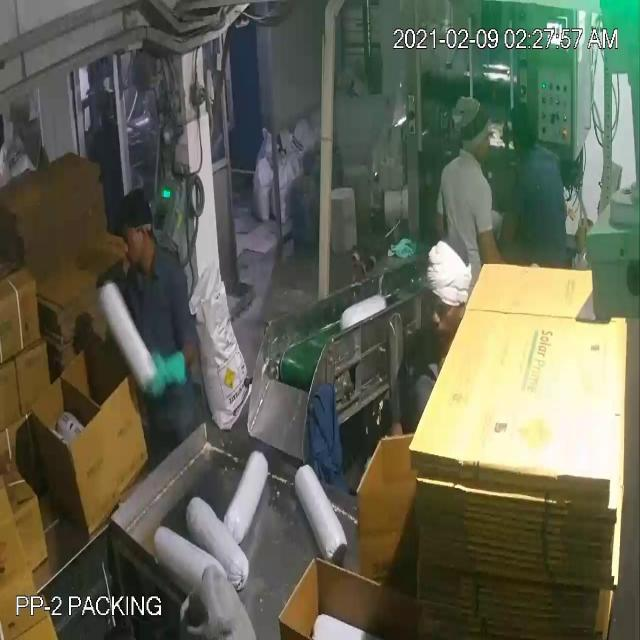Gloves: (143, 338, 191, 404)
